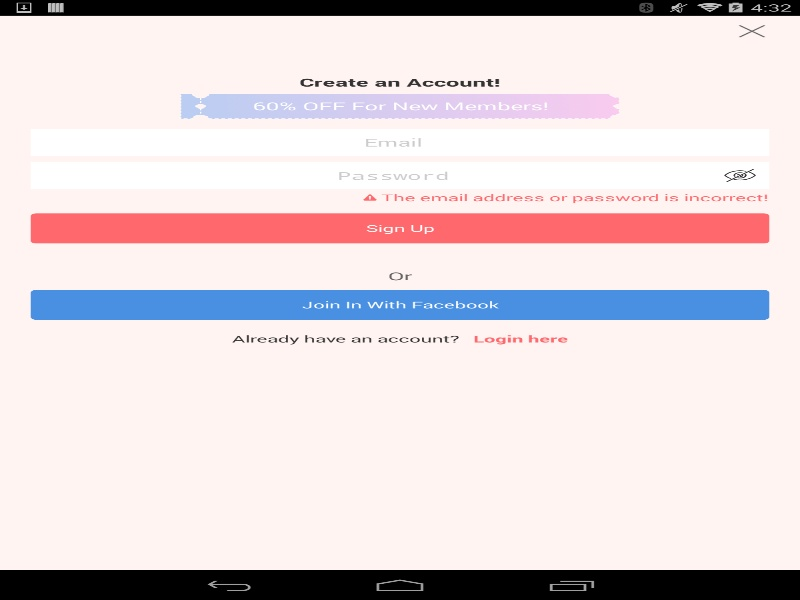Button: (30, 289, 769, 320), (30, 213, 769, 243), (720, 166, 760, 185)
Input: (30, 128, 769, 155), (30, 162, 769, 189)
